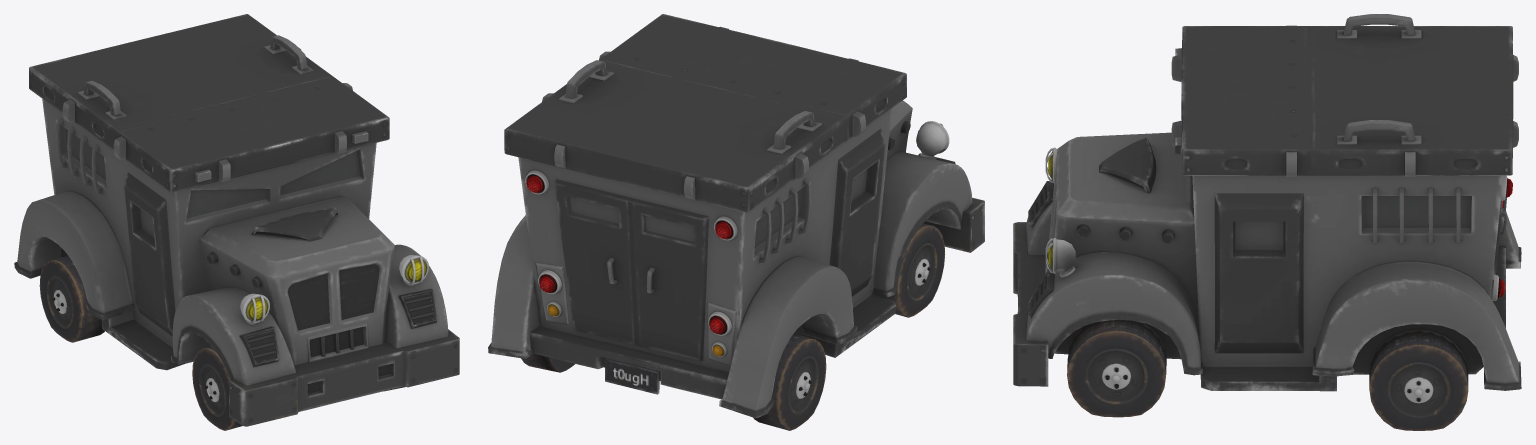
File: Armored Van.glb
3 renders of one model, left to right at view 1: azimuth 30°, elevation 25°; view 2: azimuth 150°, elevation 25°; view 3: azimuth 270°, elevation 25°, orthographic. The views are drawn at different scales.
Parts seen in each view (by area): view 1: ArmoredVan.1; view 2: ArmoredVan.1; view 3: ArmoredVan.1.
Part boxes in pixels (x1,y1,x2,y2): ArmoredVan.1: (14, 14, 459, 430); ArmoredVan.1: (488, 14, 984, 430); ArmoredVan.1: (1013, 14, 1521, 430).
Size of the model in its own units: 0.2921 by 0.2799 by 0.4338.
1 material, 1 textured.
